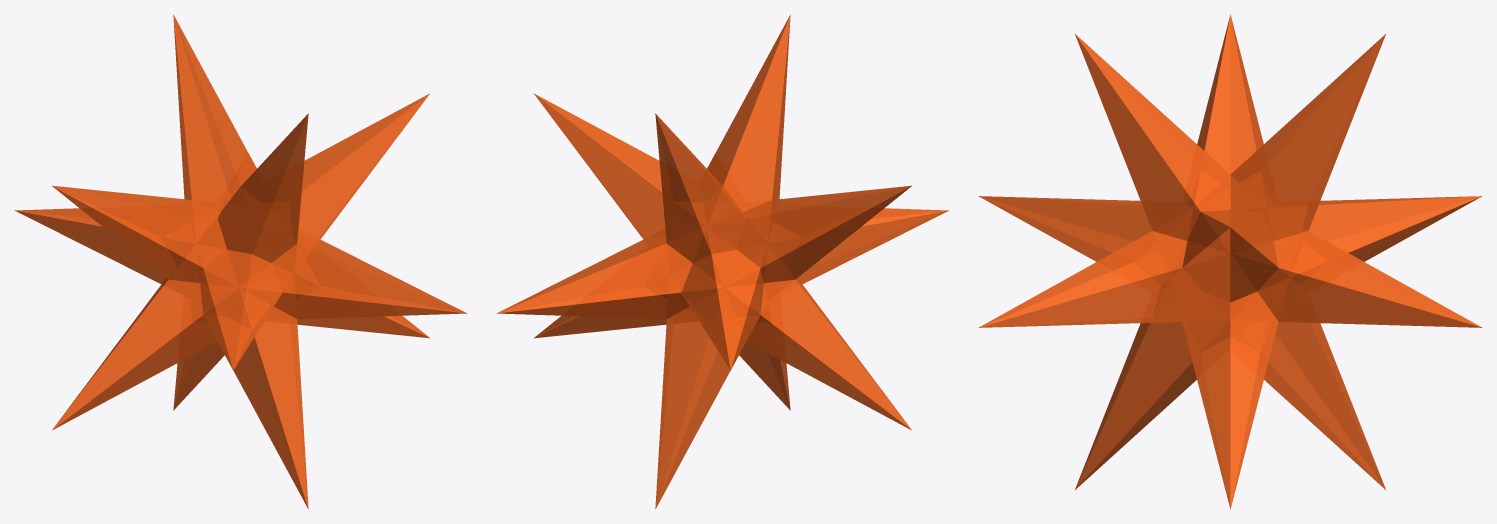
File: MedialTriambicIcosahedron.obj
The picture shows the model from 3 angles, left to right: view 1: azimuth 30°, elevation 25°; view 2: azimuth 150°, elevation 25°; view 3: azimuth 270°, elevation 25°; orthographic projection. The views are drawn at different scales.
Size of the model in its own units: 5.24 by 5.24 by 5.24.
